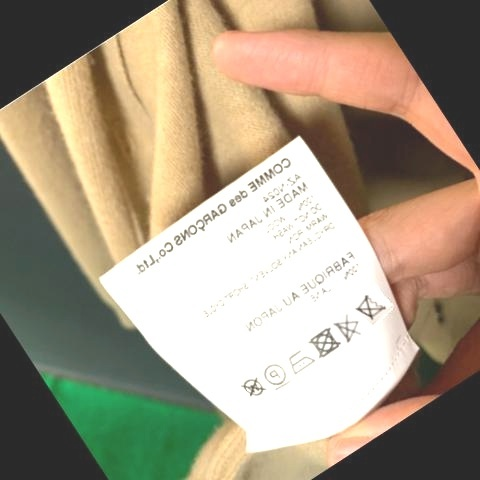DN_bleach: (334, 312, 361, 343)
DN_tumble_dry: (307, 330, 338, 358)
DN_wash: (356, 290, 385, 323)
DN_wet_clean: (239, 375, 265, 399)
dry_clean_any_solvent_except_trichloroethylene: (261, 360, 288, 391)
iron_medium: (285, 347, 317, 377)
